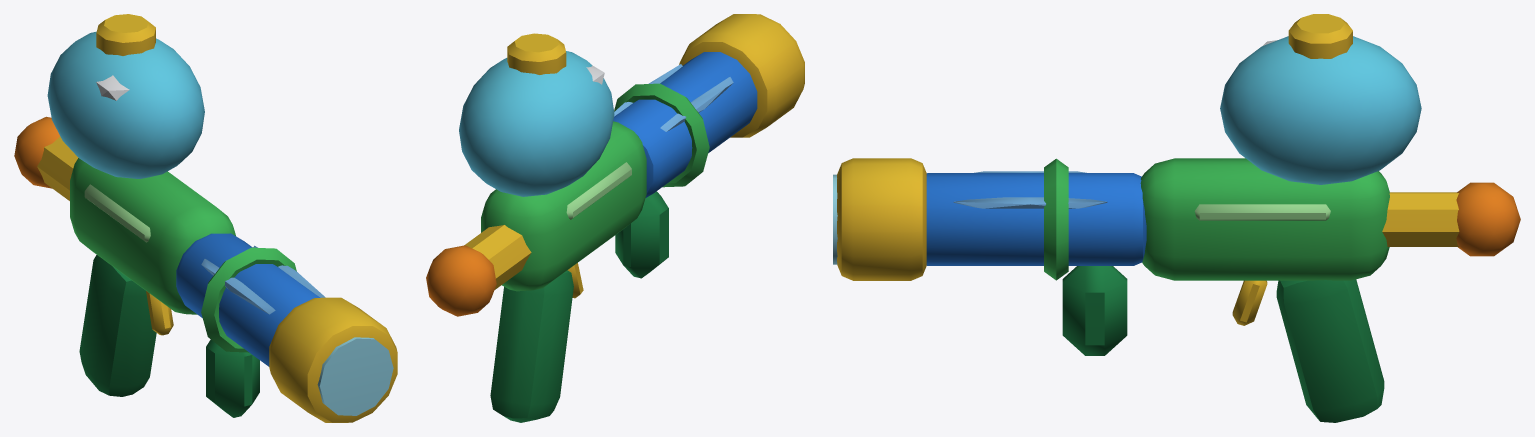
File: w_m_water.glb
3 renders of one model, left to right at view 1: azimuth 30°, elevation 25°; view 2: azimuth 150°, elevation 25°; view 3: azimuth 270°, elevation 25°, orthographic. The views are drawn at different scales.
Visible parts, largest first — view 1: body; view 2: body; view 3: body.
Boxes of the visible parts, x1,y1,x2,y2 form: body: [14, 14, 397, 422]; body: [426, 14, 804, 422]; body: [833, 14, 1520, 422].
Size of the model in its own units: 0.2137 by 0.6088 by 0.9594.
